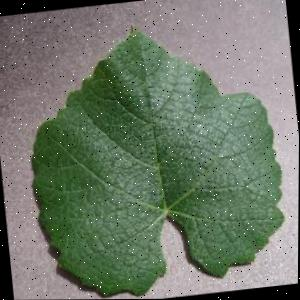Folha: (13, 7, 293, 300)
